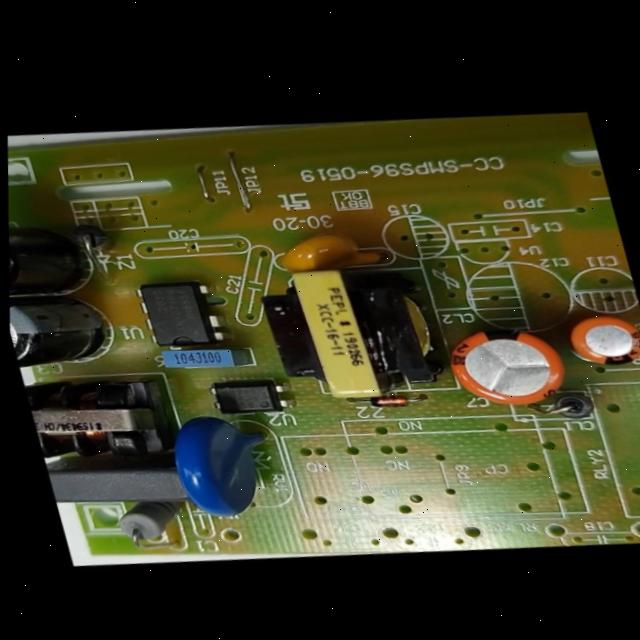Cap1: (425, 312, 582, 421)
Cap2: (550, 302, 640, 376)
Cap3: (8, 282, 123, 380)
Cap4: (6, 209, 105, 309)
MOSFET: (124, 268, 234, 361)
Mov: (152, 398, 293, 532)
Resistor: (99, 487, 191, 553)
Transformer: (241, 247, 465, 420), (20, 362, 188, 477)
